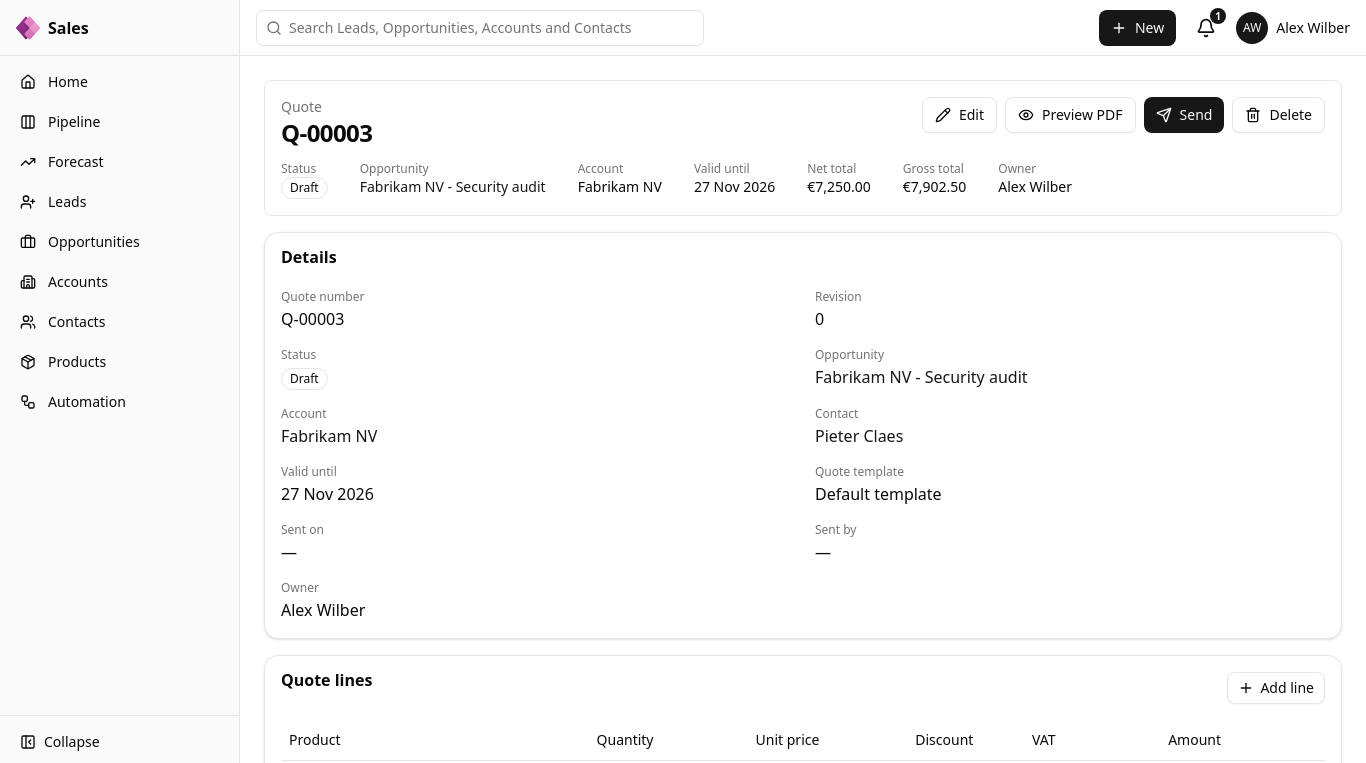
A Draft Quote › is deleted after a confirmation, returning to the Opportunity
Step 1. Click the button "Delete" → (1279, 115), box [1232, 97, 1325, 133]
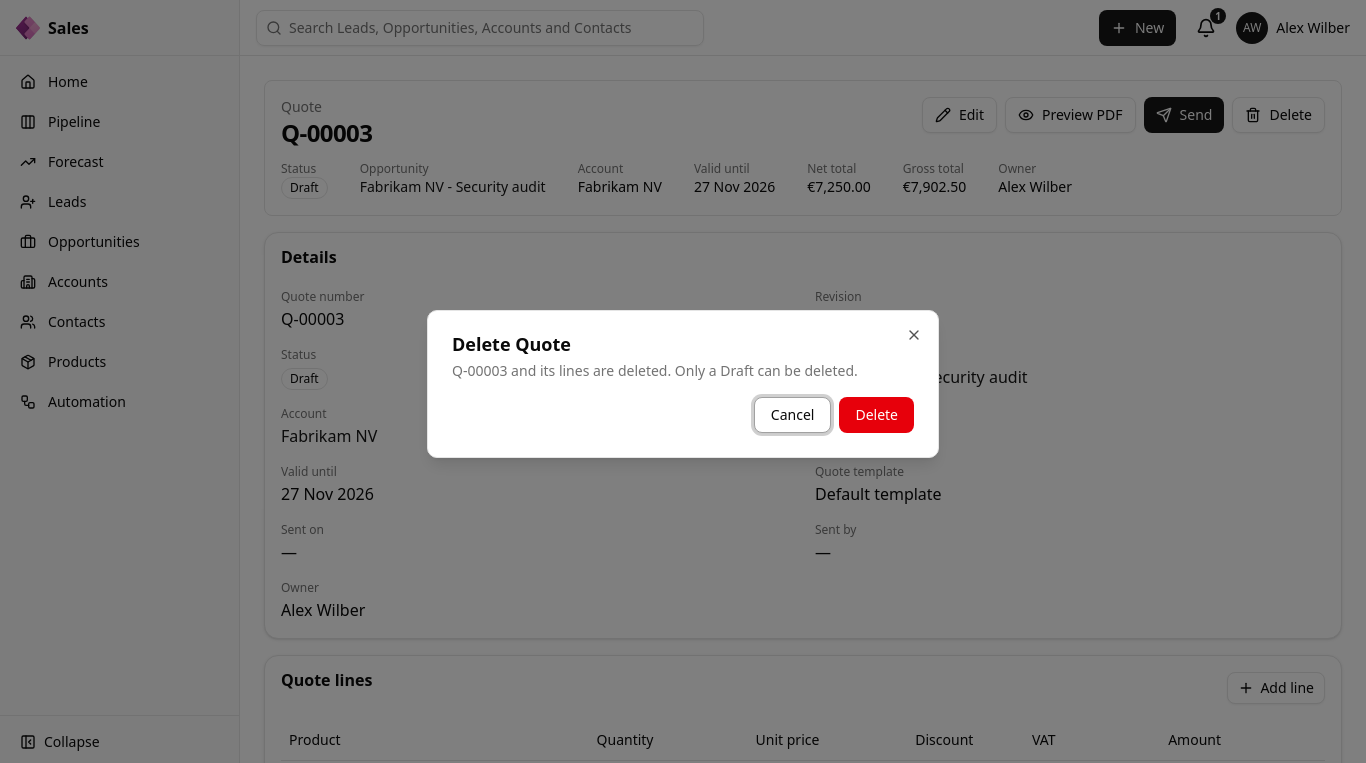
Step 2. Click the button "Delete" → (877, 415), box [839, 397, 914, 433]
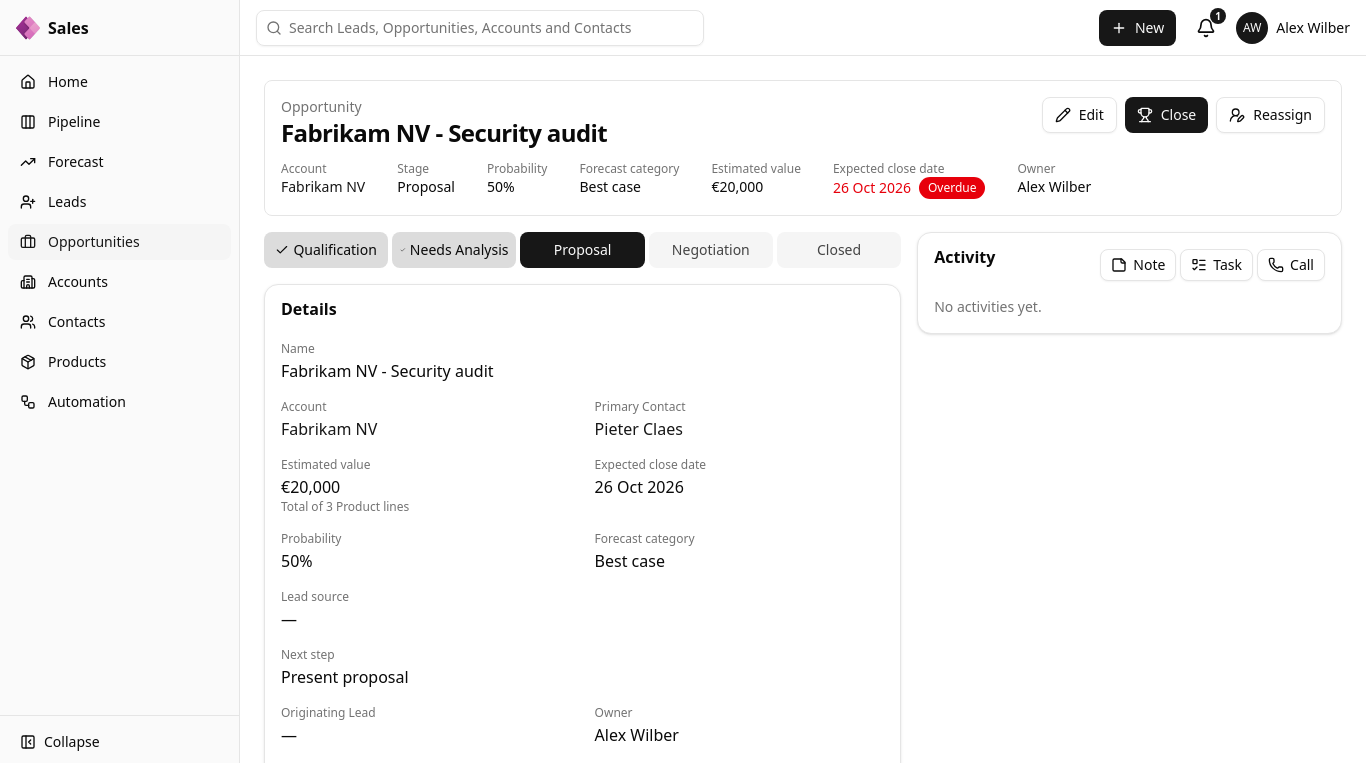
Now the heading "Fabrikam NV - Security audit" is shown, box [281, 116, 607, 149]
